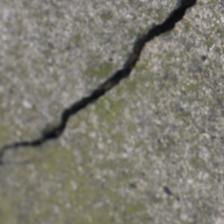Crack: (3, 3, 188, 153)
